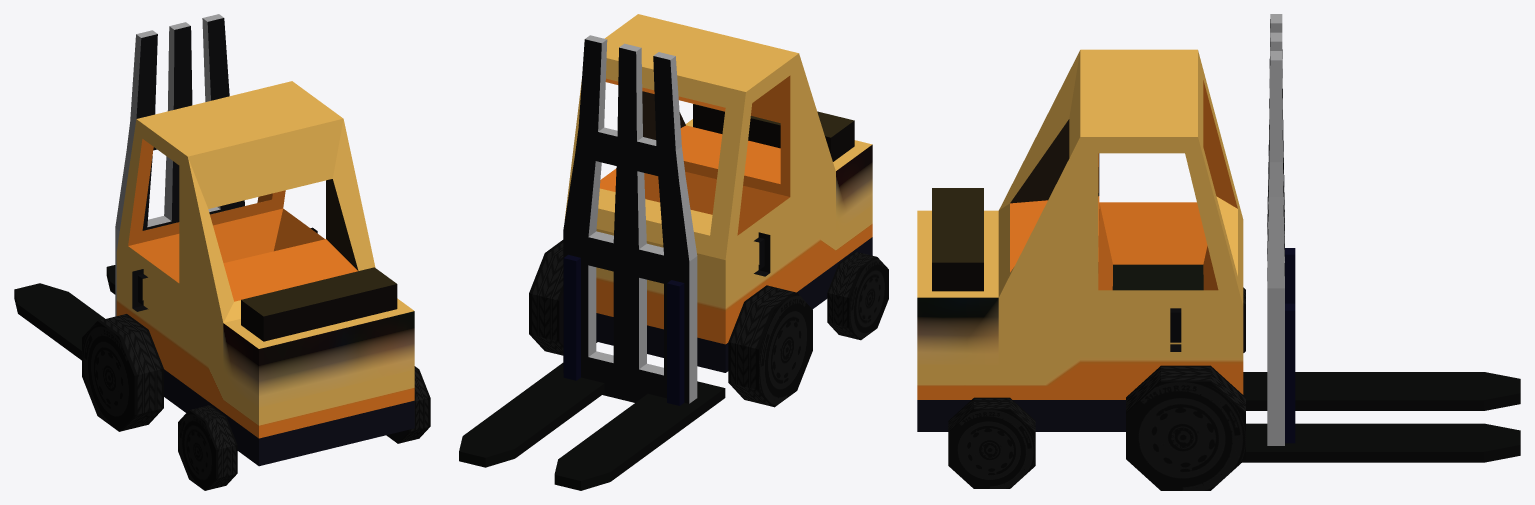
Rendered from Forklift.glb.
3 views of the same model, side by side, from view 1: azimuth 30°, elevation 25°; view 2: azimuth 150°, elevation 25°; view 3: azimuth 270°, elevation 25° (orthographic). The views are drawn at different scales.
Parts seen in each view (by area): view 1: forklift; view 2: forklift; view 3: forklift.
Boxes of the visible parts, <box> form: forklift: <box>14,14,430,490</box>; forklift: <box>459,14,888,490</box>; forklift: <box>917,14,1520,490</box>.
Size of the model in its own units: 10.66 by 15.66 by 21.86.
2 materials, 2 textured.
